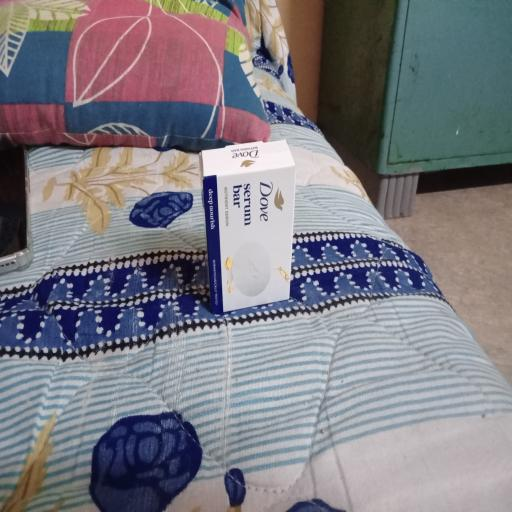Dove`1: (200, 136, 305, 314)
